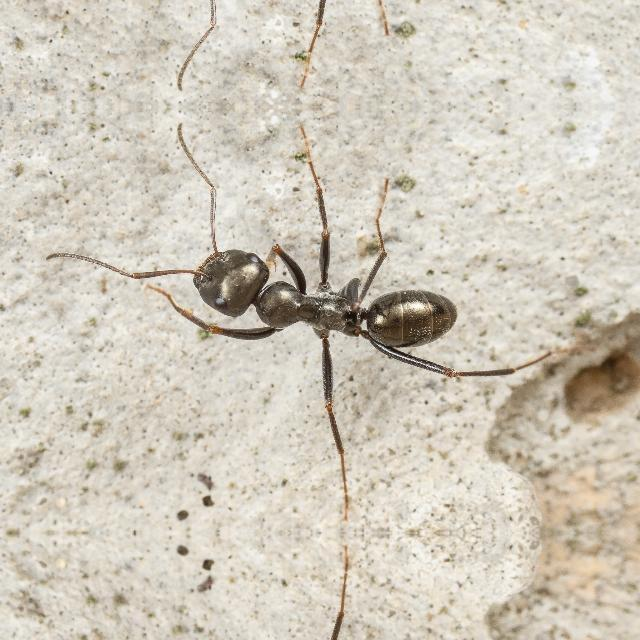Cataglyphis: (140, 216, 500, 384)
